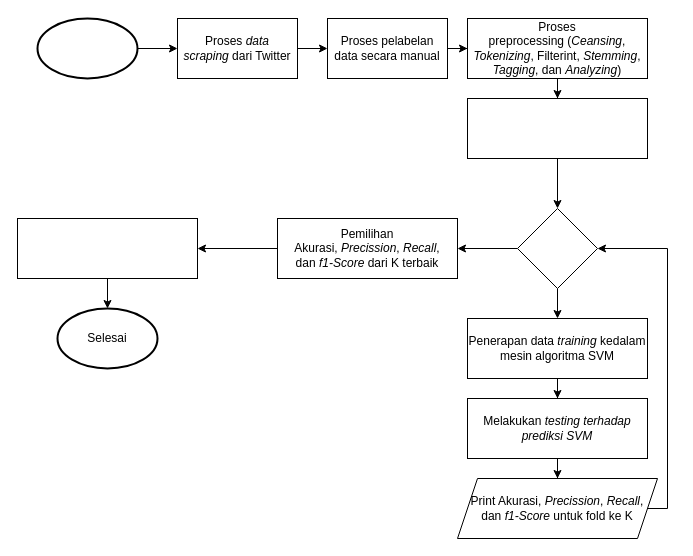
Image size: 693x556. Some labels were removed from this diagram. Here are the shapes that lost their labels. From the top down, the centre of each, then its label:
At point (87, 48): "Mulai".
At point (557, 128): "Proses Pembobotan setiap kata oleh TF-IDF".
At point (107, 248): "Melakukan perbandingan manual dengan survey pada portal berita".
At point (557, 248): "K <= 10?".
